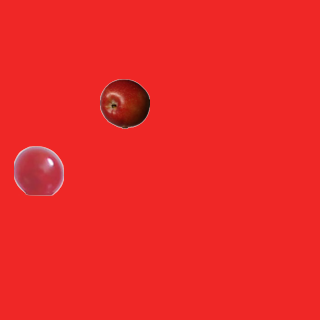Apple Braeburn: (99, 78, 149, 128)
Redcurrant: (13, 145, 63, 195)
